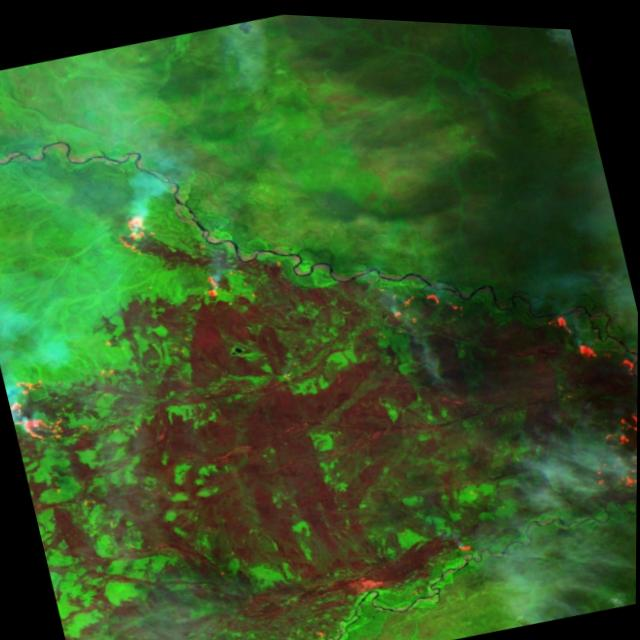fire: (536, 276, 639, 515), (3, 365, 96, 451), (380, 267, 477, 334), (103, 204, 164, 260), (190, 259, 237, 307), (445, 527, 483, 559)
